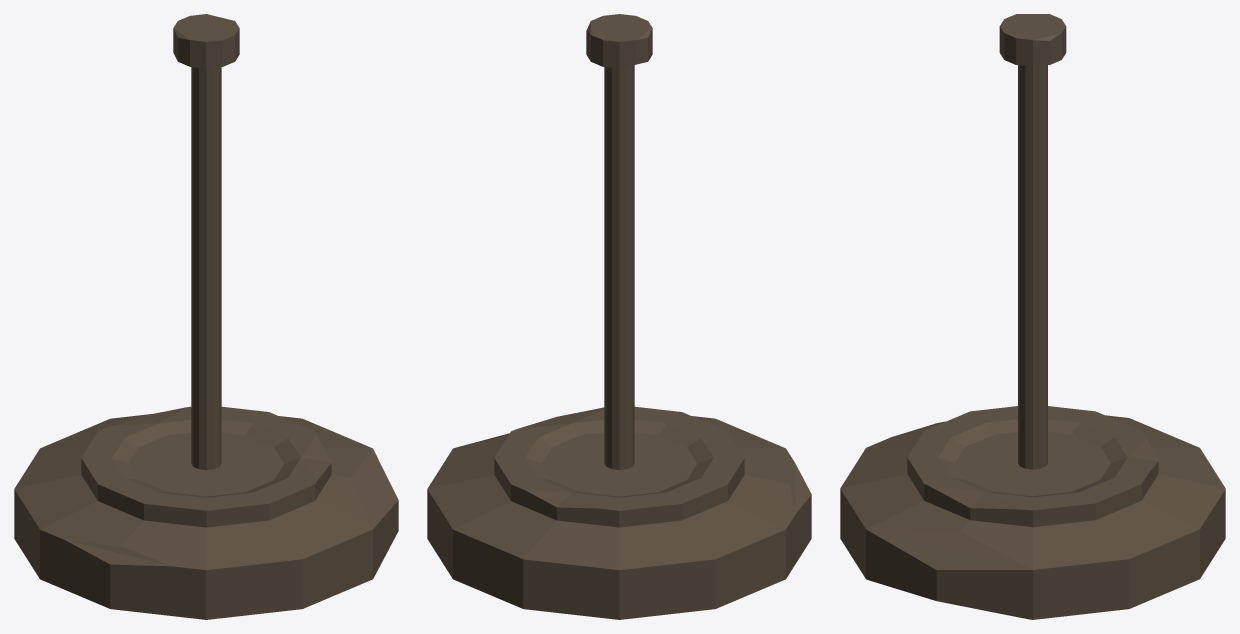
Rendered from Fish_Head_Stand_001.fbx.
The picture shows the model from 3 angles, left to right: view 1: azimuth 30°, elevation 25°; view 2: azimuth 150°, elevation 25°; view 3: azimuth 270°, elevation 25°; orthographic projection.
Parts seen in each view (by area): view 1: Fish_Head_Stand_001; view 2: Fish_Head_Stand_001; view 3: Fish_Head_Stand_001.
Boxes of the visible parts, bbox=[...] form: Fish_Head_Stand_001: bbox=[14, 14, 398, 619]; Fish_Head_Stand_001: bbox=[427, 14, 811, 619]; Fish_Head_Stand_001: bbox=[840, 14, 1225, 619].
Bounding box in the file's own units: 0.3872 × 0.5677 × 0.3872.
